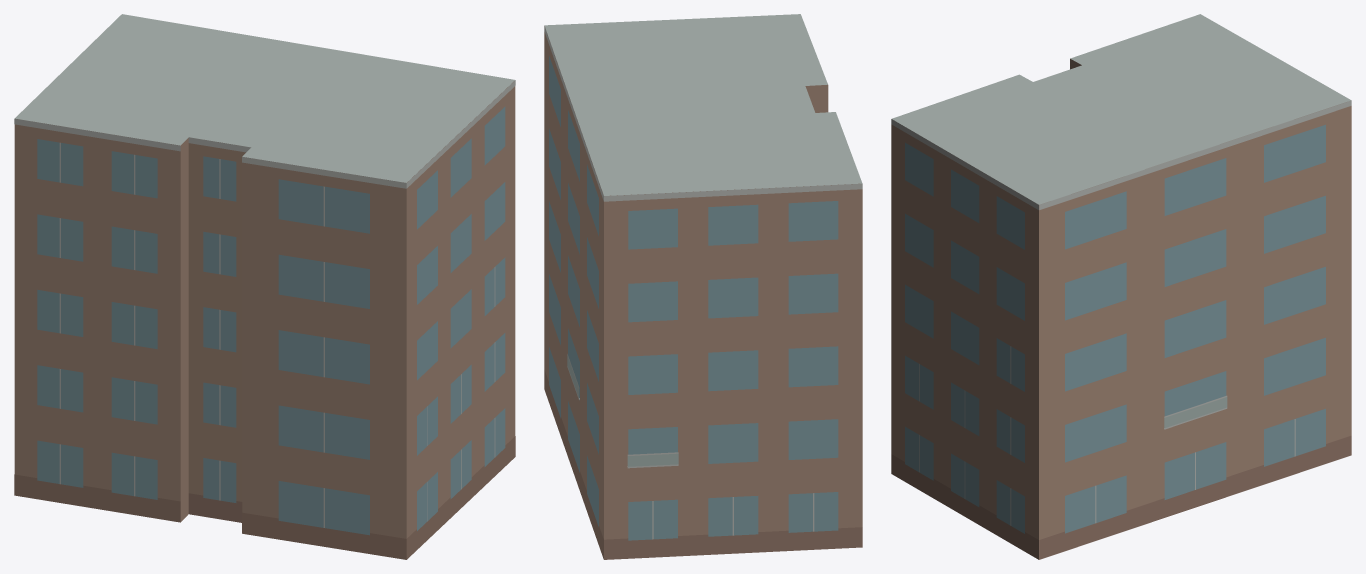
Rendered from survey-upis-32780876.glb.
3 views of the same model, side by side, from view 1: azimuth 30°, elevation 25°; view 2: azimuth 150°, elevation 25°; view 3: azimuth 270°, elevation 25° (orthographic). The views are drawn at different scales.
Visible parts, largest first — view 1: survey-upis-32780876.tmp; view 2: survey-upis-32780876.tmp; view 3: survey-upis-32780876.tmp.
Part boxes in pixels (left/top/right/bottom): survey-upis-32780876.tmp: left=14, top=14, right=515, bottom=559; survey-upis-32780876.tmp: left=544, top=14, right=862, bottom=559; survey-upis-32780876.tmp: left=891, top=14, right=1351, bottom=559.
Bounding box in the file's own units: 18.11 × 15.7 × 18.45.
